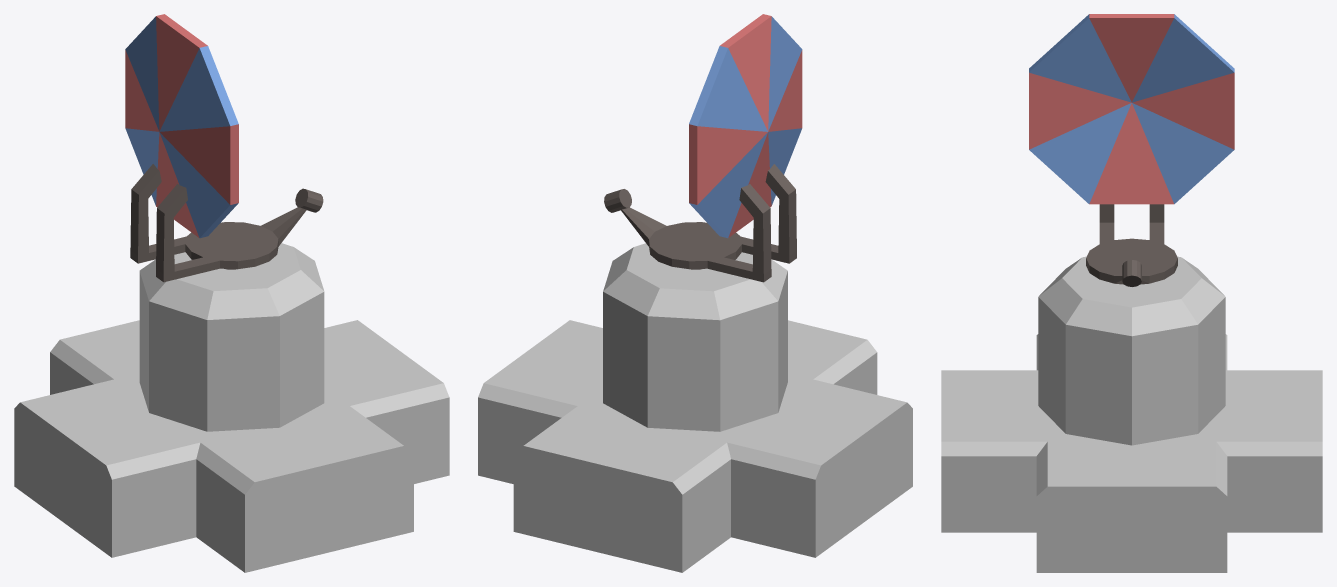
Rendered from Towers.fbx.
3 renders of one model, left to right at view 1: azimuth 30°, elevation 25°; view 2: azimuth 150°, elevation 25°; view 3: azimuth 270°, elevation 25°, orthographic. The views are drawn at different scales.
Parts seen in each view (by area): view 1: TowerBase, LaserTowerBase, LaserDish; view 2: TowerBase, LaserTowerBase, LaserDish; view 3: TowerBase, LaserDish, LaserTowerBase.
Boxes of the visible parts, x1,y1,x2,y2 form: TowerBase: (14, 320, 449, 572); LaserTowerBase: (139, 243, 324, 431); LaserDish: (125, 14, 323, 282); TowerBase: (478, 320, 912, 572); LaserTowerBase: (603, 243, 787, 431); LaserDish: (604, 14, 802, 282); TowerBase: (941, 334, 1322, 572); LaserDish: (1029, 14, 1234, 286); LaserTowerBase: (1038, 256, 1225, 445).
Size of the model in its own units: 200 by 262 by 200.
